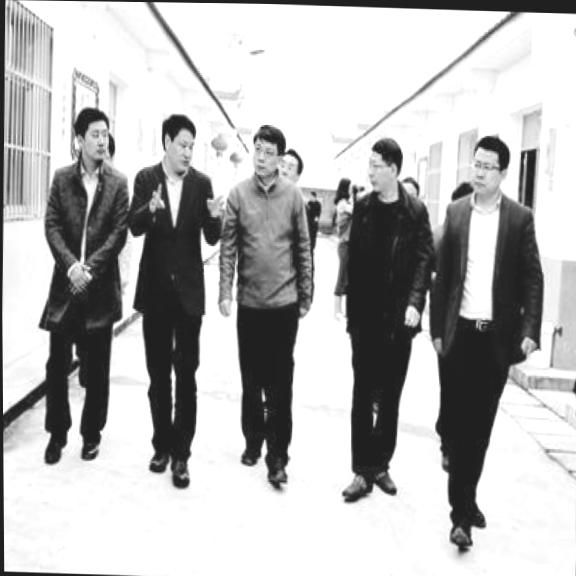no_safety_vest: (428, 189, 548, 359), (35, 160, 134, 326), (212, 174, 319, 324), (125, 162, 216, 321), (342, 185, 438, 331)
